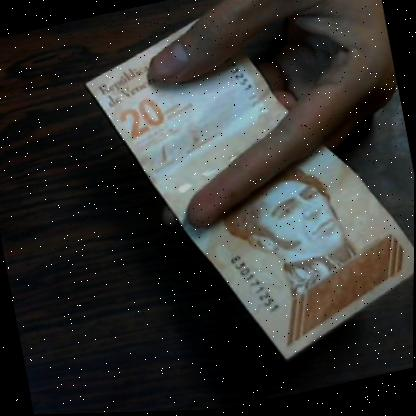vef_front: (73, 0, 416, 395)
